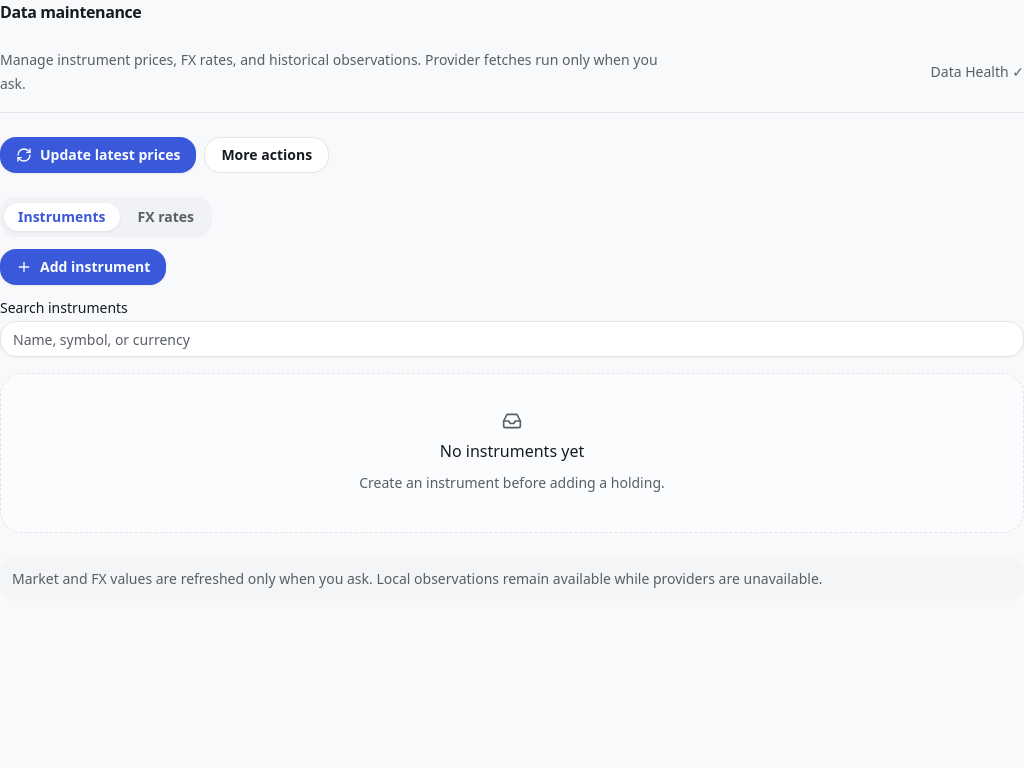
Test case: MarketDataPage › cancels an active refresh and ignores its completion
Step 1. Click the button "More actions" → (267, 155), box 204,137 -> 329,173
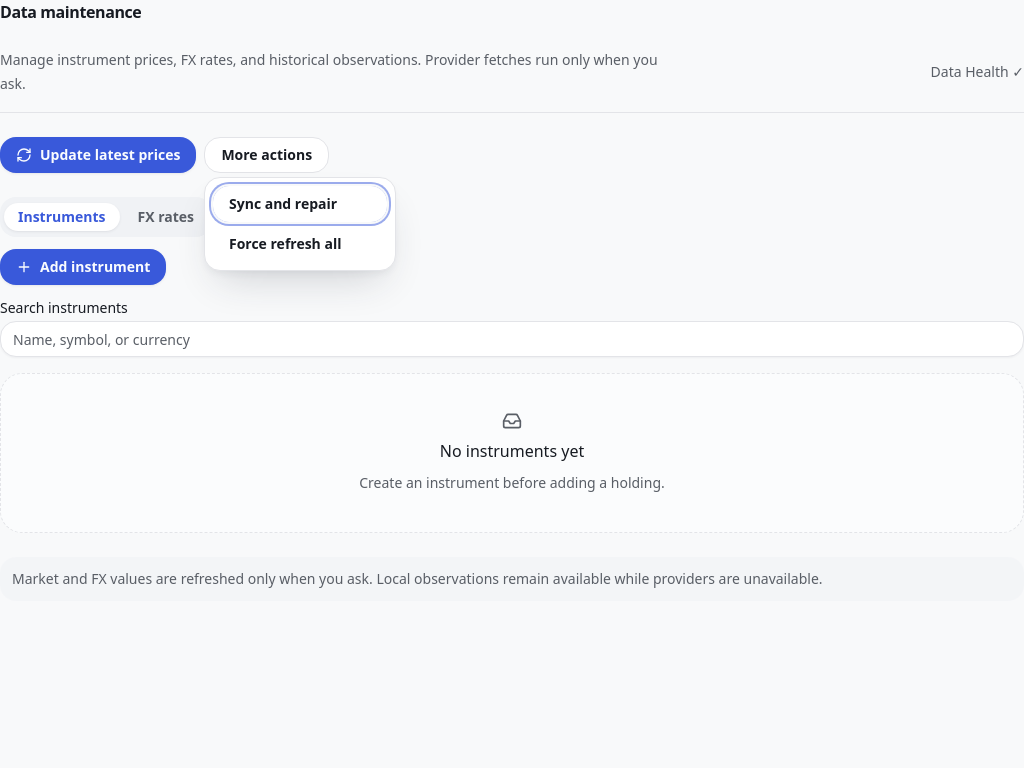
Step 2. Click the button "Force refresh all" → (300, 244), box 213,226 -> 387,262
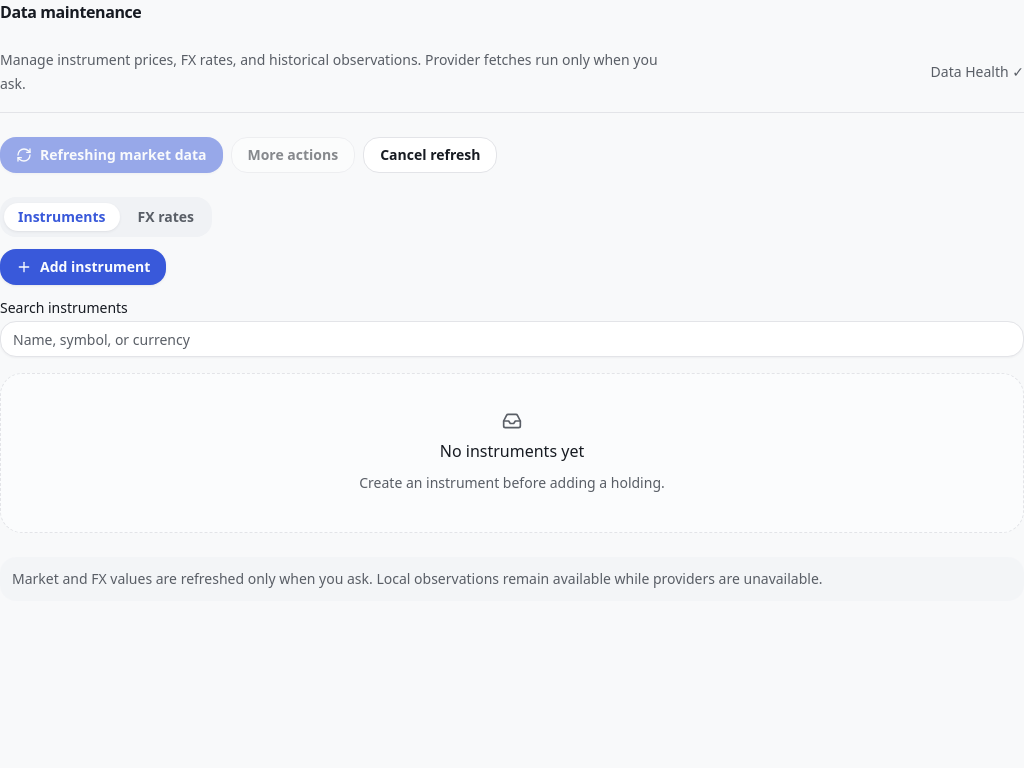
Step 3. Click the button "Cancel refresh" → (430, 155), box 363,137 -> 497,173
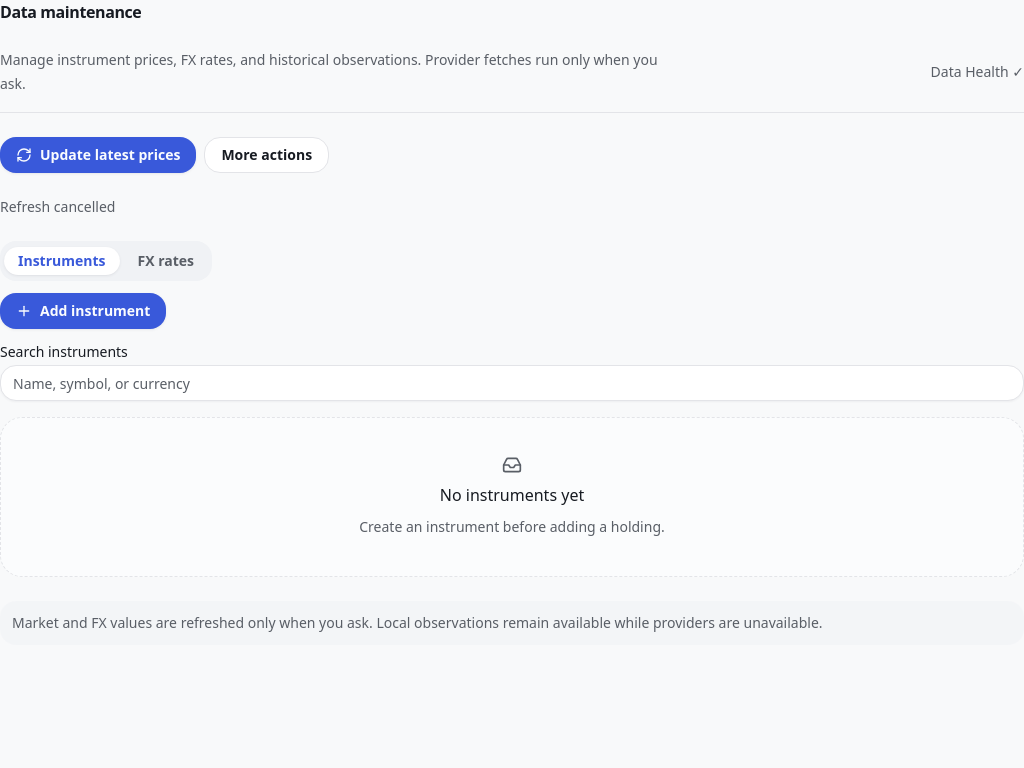
Check: the message reads "Refresh cancelled", box 0,197 -> 115,216
